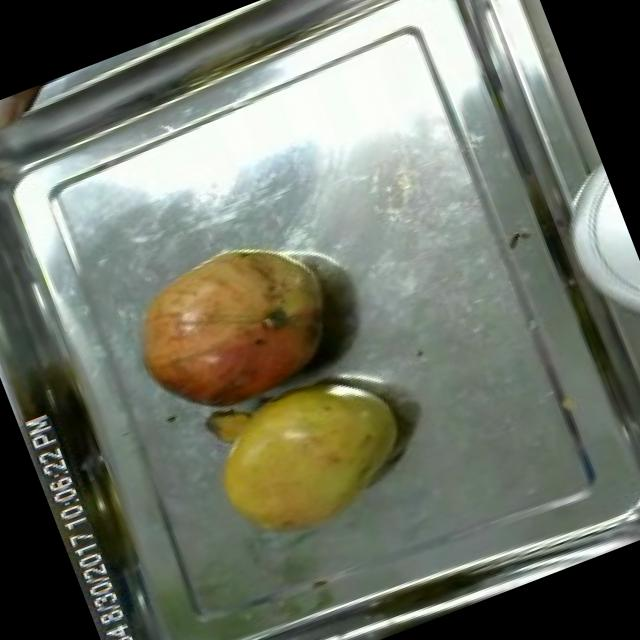fruit: (104, 213, 362, 445), (183, 346, 437, 569), (0, 78, 68, 143)
